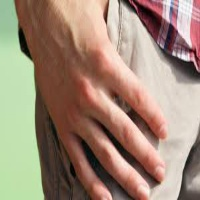ring: (103, 99, 174, 179)
